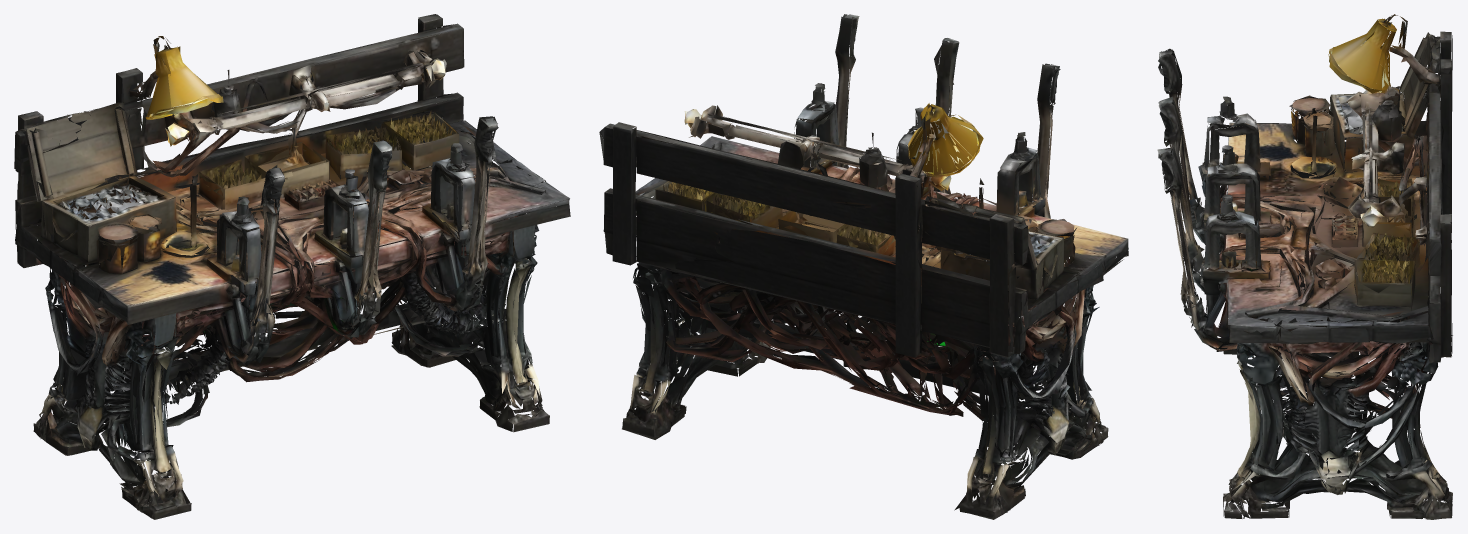
Rendered from vesper_reloading_station.glb.
The picture shows the model from 3 angles, left to right: view 1: azimuth 30°, elevation 25°; view 2: azimuth 150°, elevation 25°; view 3: azimuth 270°, elevation 25°; orthographic projection. The views are drawn at different scales.
Parts seen in each view (by area): view 1: node_0; view 2: node_0; view 3: node_0.
Part boxes in pixels (x1,y1,x2,y2): node_0: (14, 14, 570, 519); node_0: (599, 14, 1128, 519); node_0: (1157, 14, 1452, 519).
Bounding box in the file's own units: 0.8924 × 0.7468 × 0.5406.
Materials: 1 (1 with a texture image).
